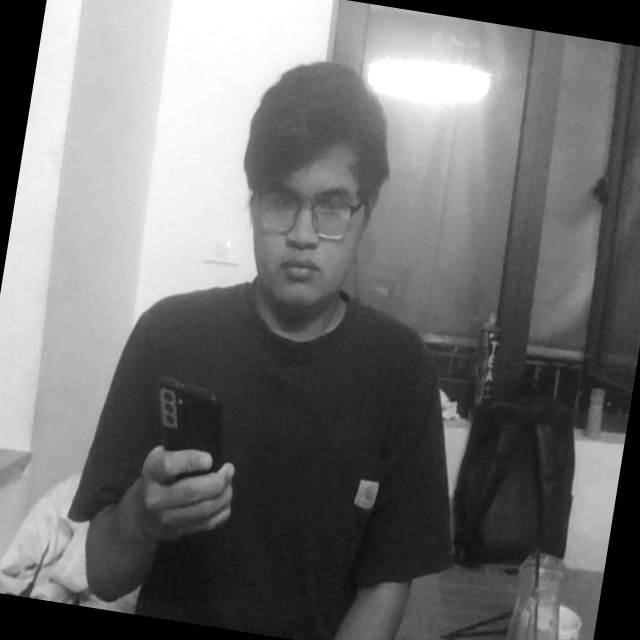phone: (121, 358, 247, 534)
